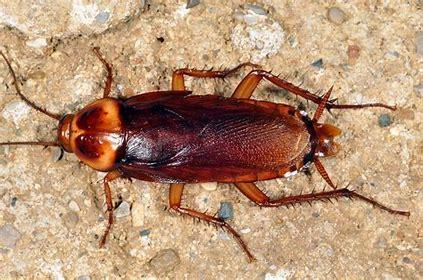cockroach: (0, 32, 418, 268)
